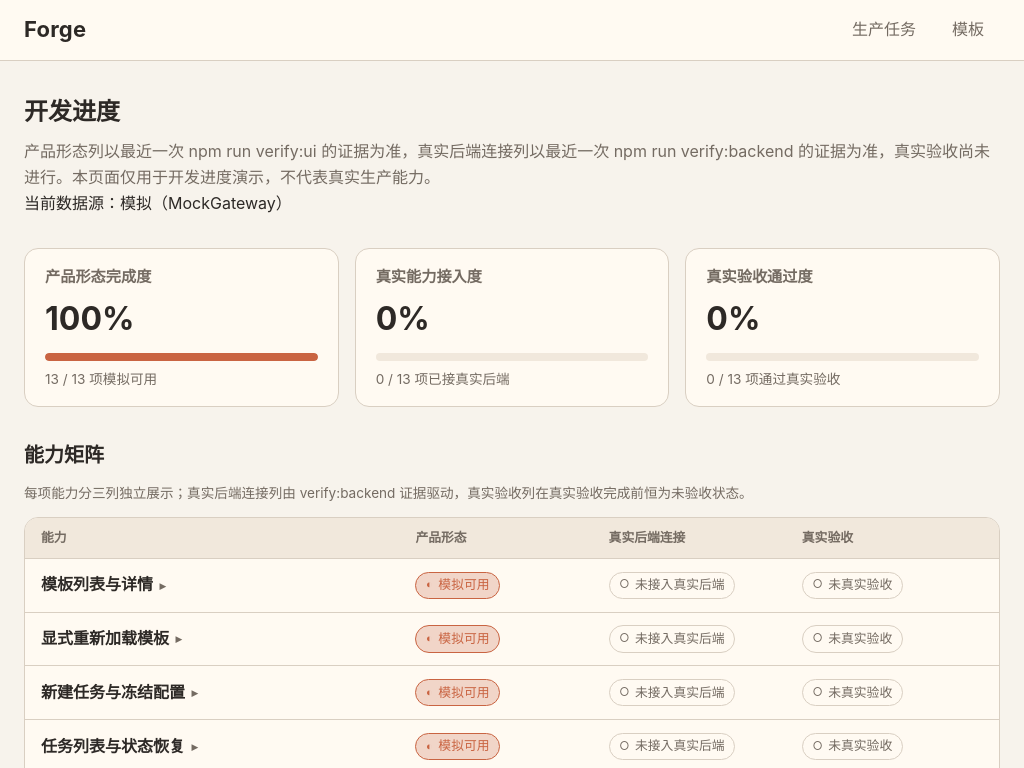
Test: DevelopmentProgressPage › expands a capability row to command, observed time and outcome
This screenshot has width=1024, height=768.
Expected: the list item "模板列表与详情" is shown, [25,559,999,612]
Expected: the text "验证命令" is not shown
Click the button "模板列表与详情".
click(97, 584)  # box [41,568,403,602]
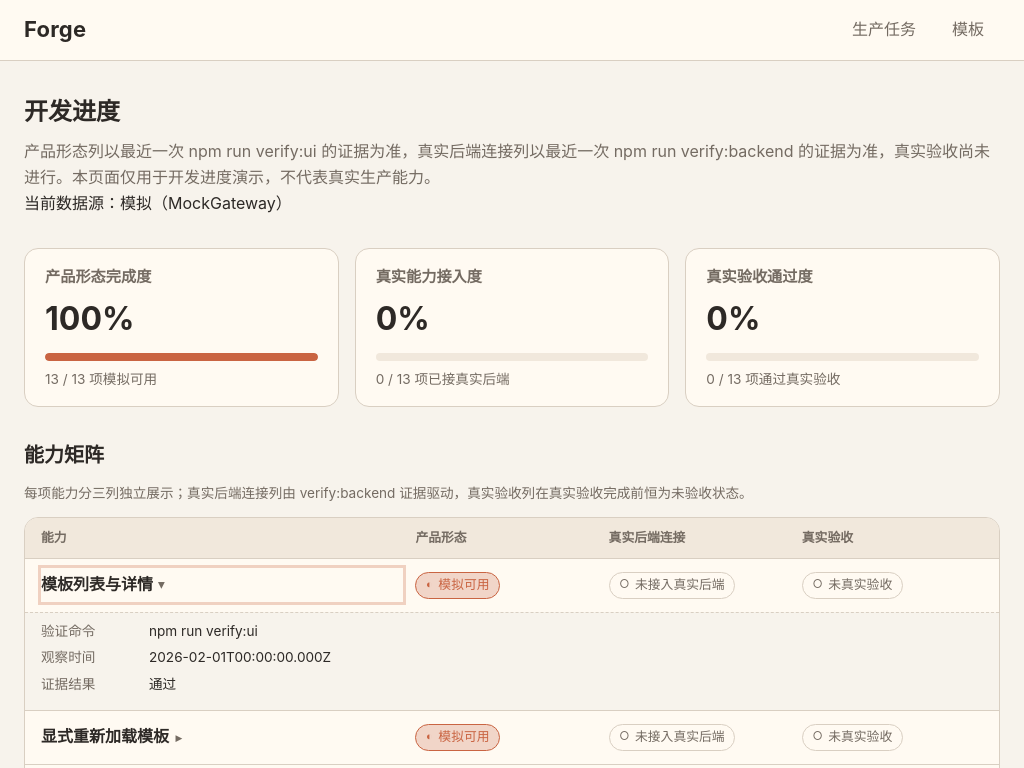
Now the text "npm run verify:ui" is shown, box [149,623,258,639]
Now the text "2026-02-01T00:00:00.000Z" is shown, box [149,649,331,665]
Now the text "通过" is shown, box [149,676,176,692]
